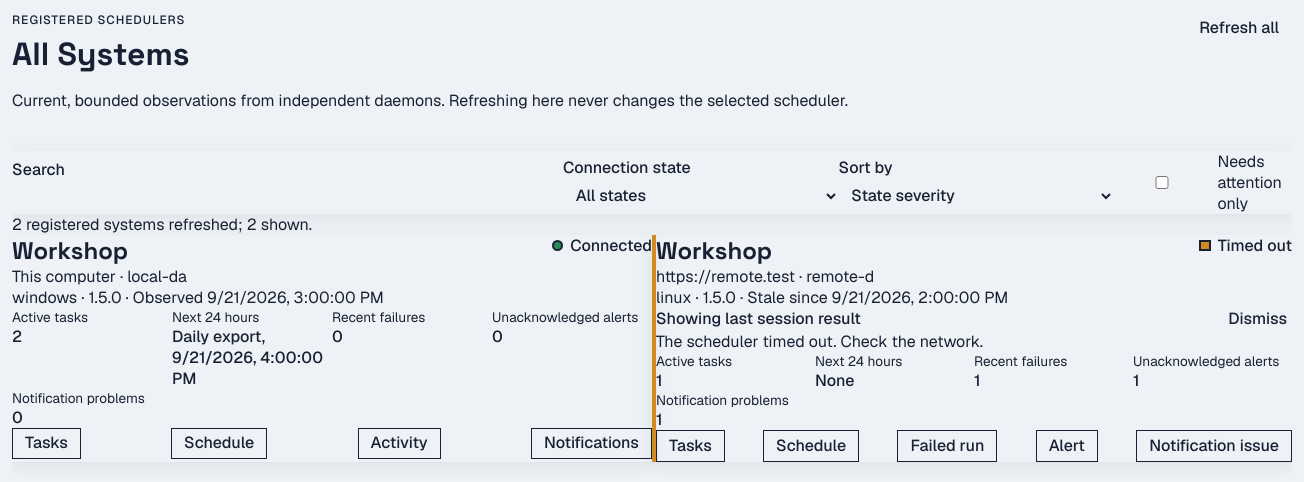
SystemsPage › supports state filtering, search, and stable label sorting
The image size is (1304, 482).
Expected: the text "2 registered systems refreshed; 2 shown." is shown, [12,214,312,235]
Select "connected" in the dropdown labelled "Connection state" at (701, 196), box [563,178,838,214]
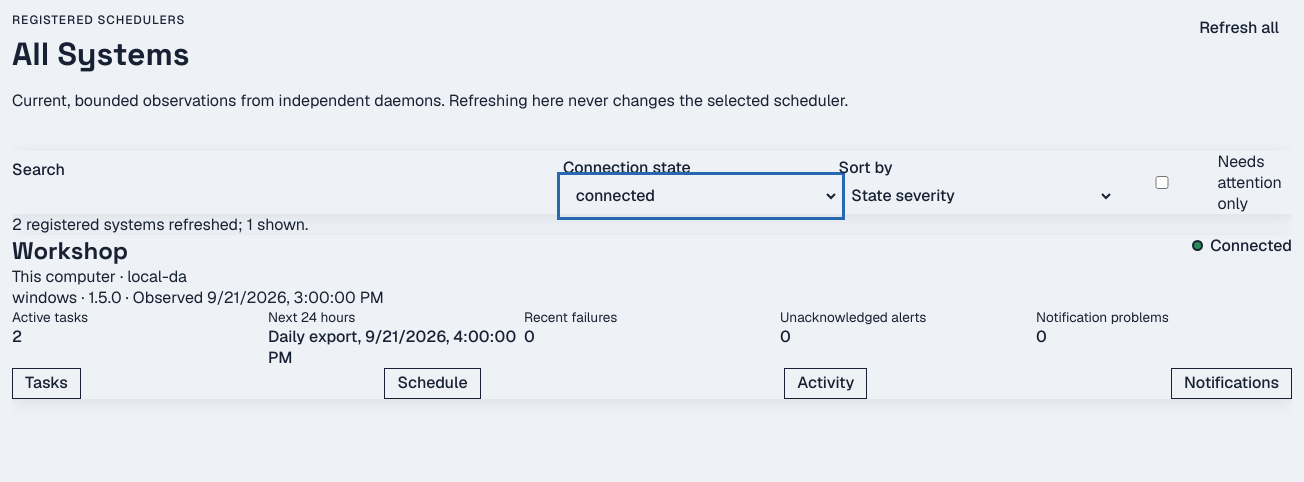
Now the text "2 registered systems refreshed; 1 shown." is shown, box [12,214,308,235]
Type "remote.test" into the field labelled "Search" at (288, 197), box [12,180,563,214]
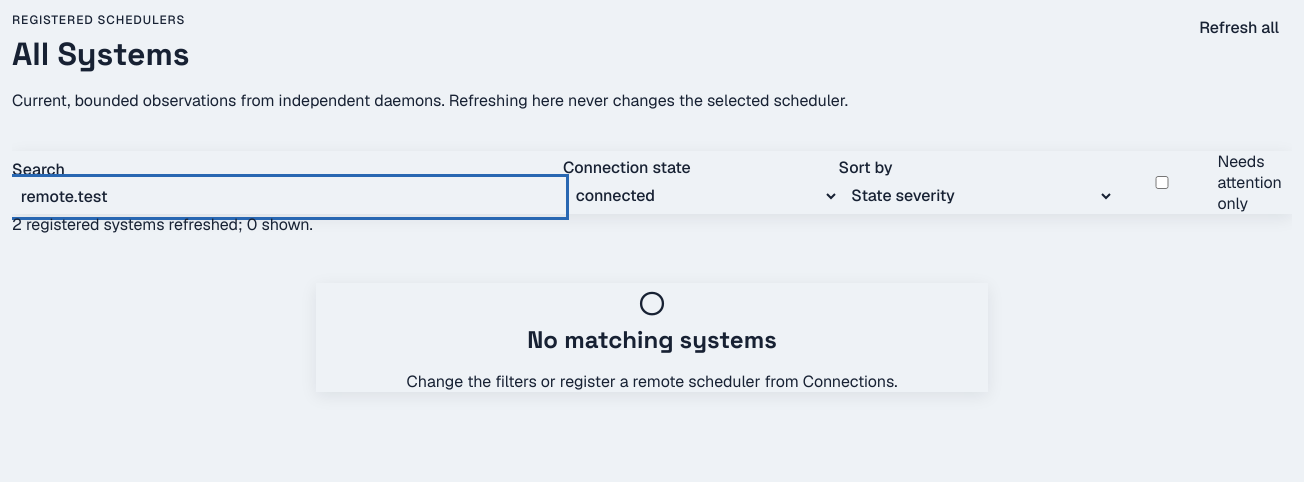
Now the heading "No matching systems" is shown, box [527,324,777,355]
